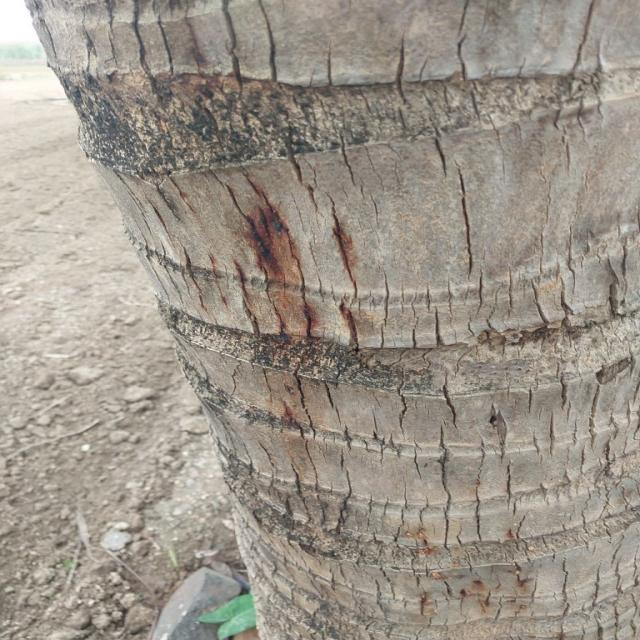stembleeding: (177, 185, 384, 511)
